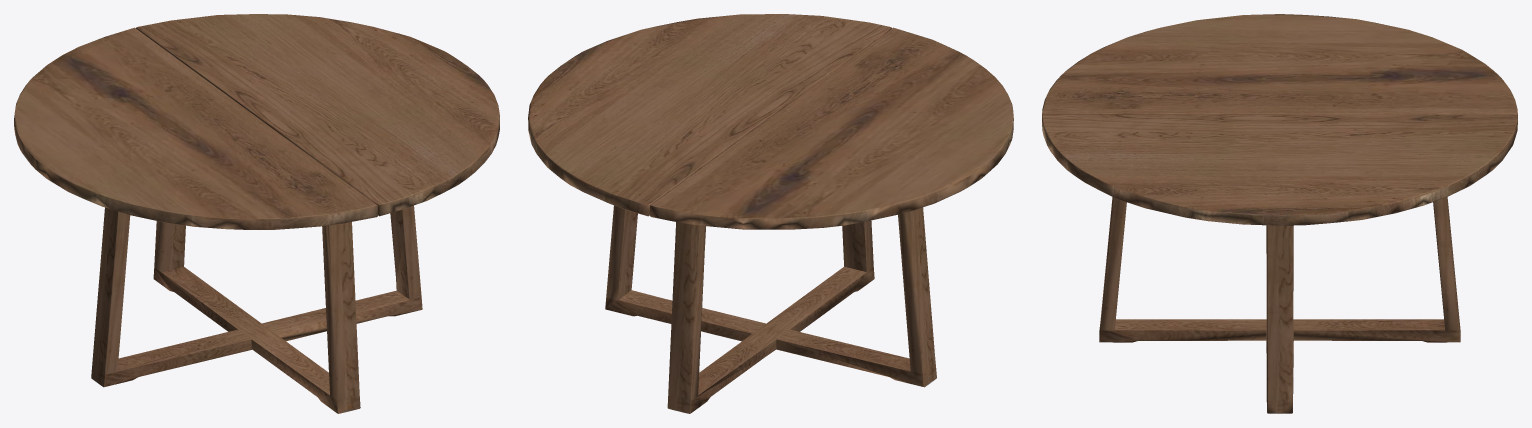
File: morbylanga-mesa-chapa-roble-tinte-marron.glb
The picture shows the model from 3 angles, left to right: view 1: azimuth 30°, elevation 25°; view 2: azimuth 150°, elevation 25°; view 3: azimuth 270°, elevation 25°; orthographic projection. The views are drawn at different scales.
Parts seen in each view (by area): view 1: ProcessedMeshNode; view 2: ProcessedMeshNode; view 3: ProcessedMeshNode.
Part boxes in pixels (x1,y1,x2,y2): ProcessedMeshNode: [14, 14, 499, 413]; ProcessedMeshNode: [528, 14, 1013, 413]; ProcessedMeshNode: [1042, 14, 1517, 413].
Size of the model in its own units: 1.45 by 0.7536 by 1.45.
Materials: 1 (1 with a texture image).
